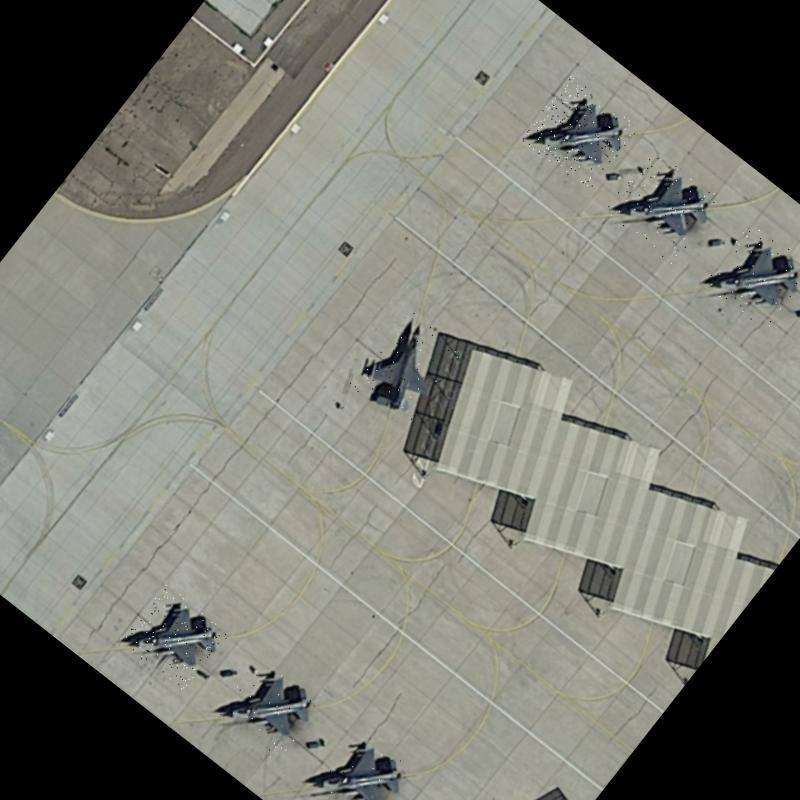A5: (347, 306, 466, 430), (603, 147, 724, 266), (520, 75, 639, 193), (212, 653, 326, 766), (119, 584, 230, 695), (701, 220, 800, 334), (301, 722, 415, 800)
